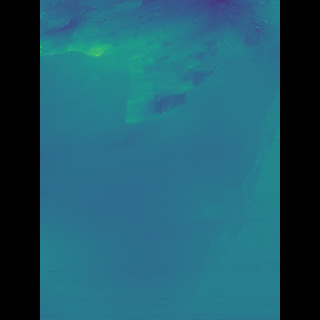Loch: (70, 0, 247, 130)
